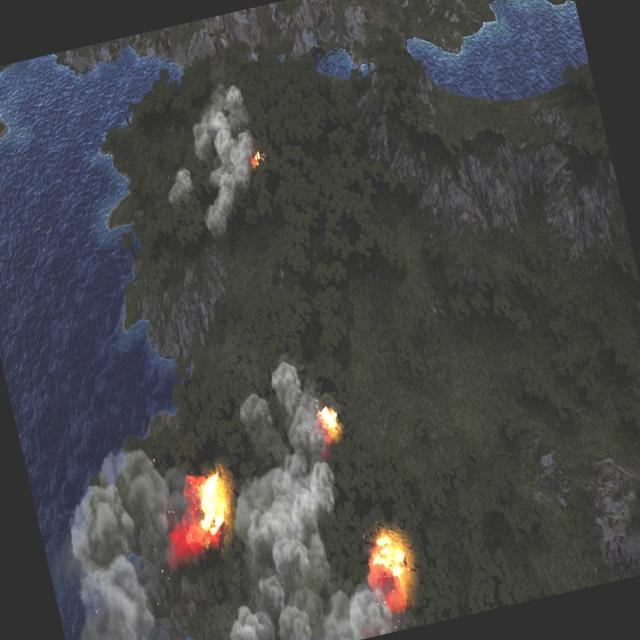fire: (158, 466, 242, 568), (362, 526, 419, 611), (314, 402, 342, 444), (248, 150, 264, 170)
smoke: (167, 348, 402, 640), (26, 436, 227, 640), (145, 78, 278, 245)
